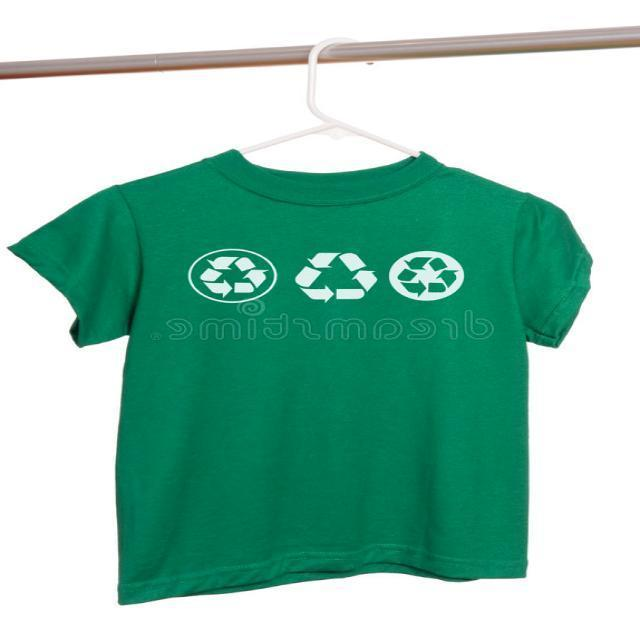clothes: (62, 164, 562, 606)
